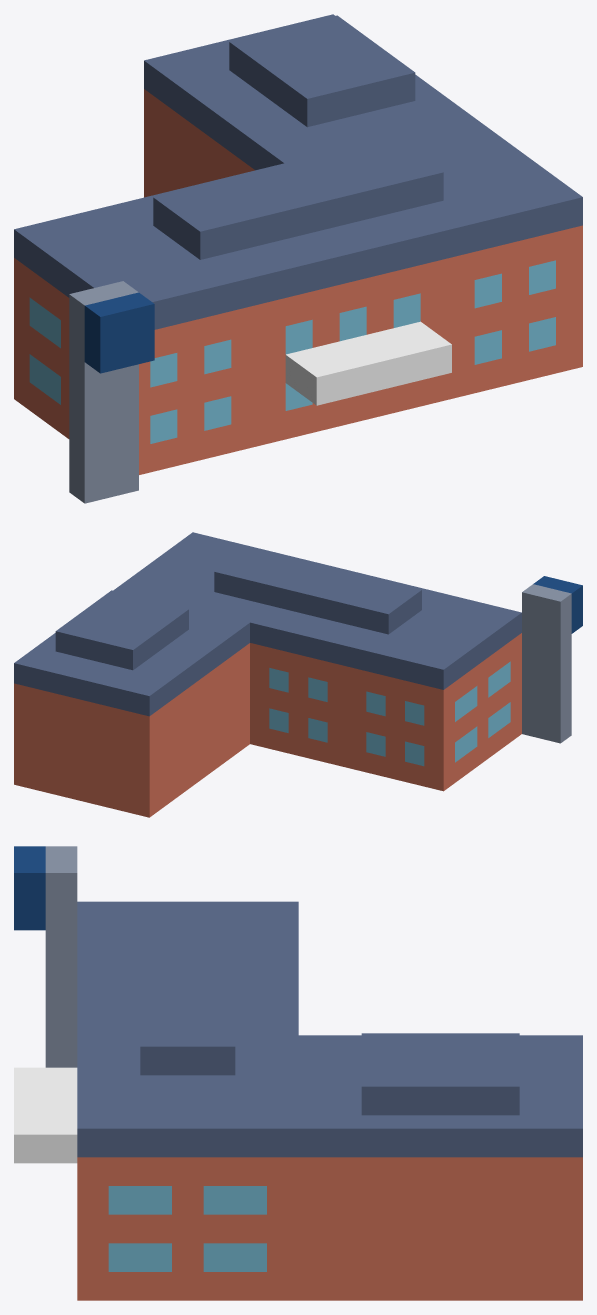
File: school.glb
3 views of the same model, one above another, from view 1: azimuth 30°, elevation 25°; view 2: azimuth 150°, elevation 25°; view 3: azimuth 270°, elevation 25° (orthographic). The views are drawn at different scales.
Parts seen in each view (by area): view 1: school_roof_slate, school_brick, school_window, school_metal, school_white, school_garda_blue; view 2: school_roof_slate, school_brick, school_metal, school_window, school_garda_blue; view 3: school_roof_slate, school_brick, school_window, school_metal, school_white, school_garda_blue.
Part boxes in pixels (x1,y1,x2,y2): school_roof_slate: [14, 14, 582, 329]; school_brick: [14, 89, 582, 474]; school_window: [29, 260, 555, 443]; school_metal: [69, 281, 138, 503]; school_white: [285, 321, 451, 405]; school_garda_blue: [84, 292, 154, 373]; school_roof_slate: [14, 532, 521, 716]; school_brick: [14, 633, 521, 817]; school_metal: [522, 584, 571, 743]; school_window: [269, 661, 510, 766]; school_garda_blue: [533, 576, 582, 633]; school_roof_slate: [77, 901, 582, 1157]; school_brick: [77, 1157, 582, 1300]; school_window: [108, 1186, 266, 1271]; school_metal: [45, 846, 77, 1067]; school_white: [14, 1067, 77, 1163]; school_garda_blue: [14, 846, 45, 930].
Size of the model in its own units: 30 by 11.05 by 28.42.
